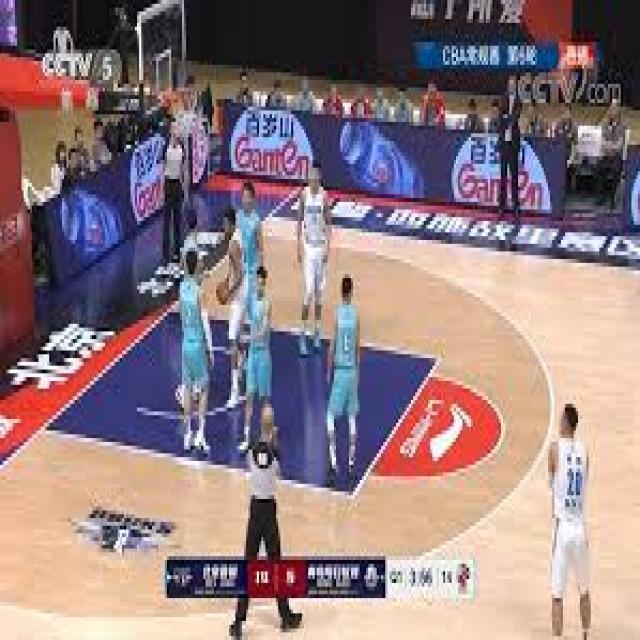rim: (216, 282, 229, 305)
